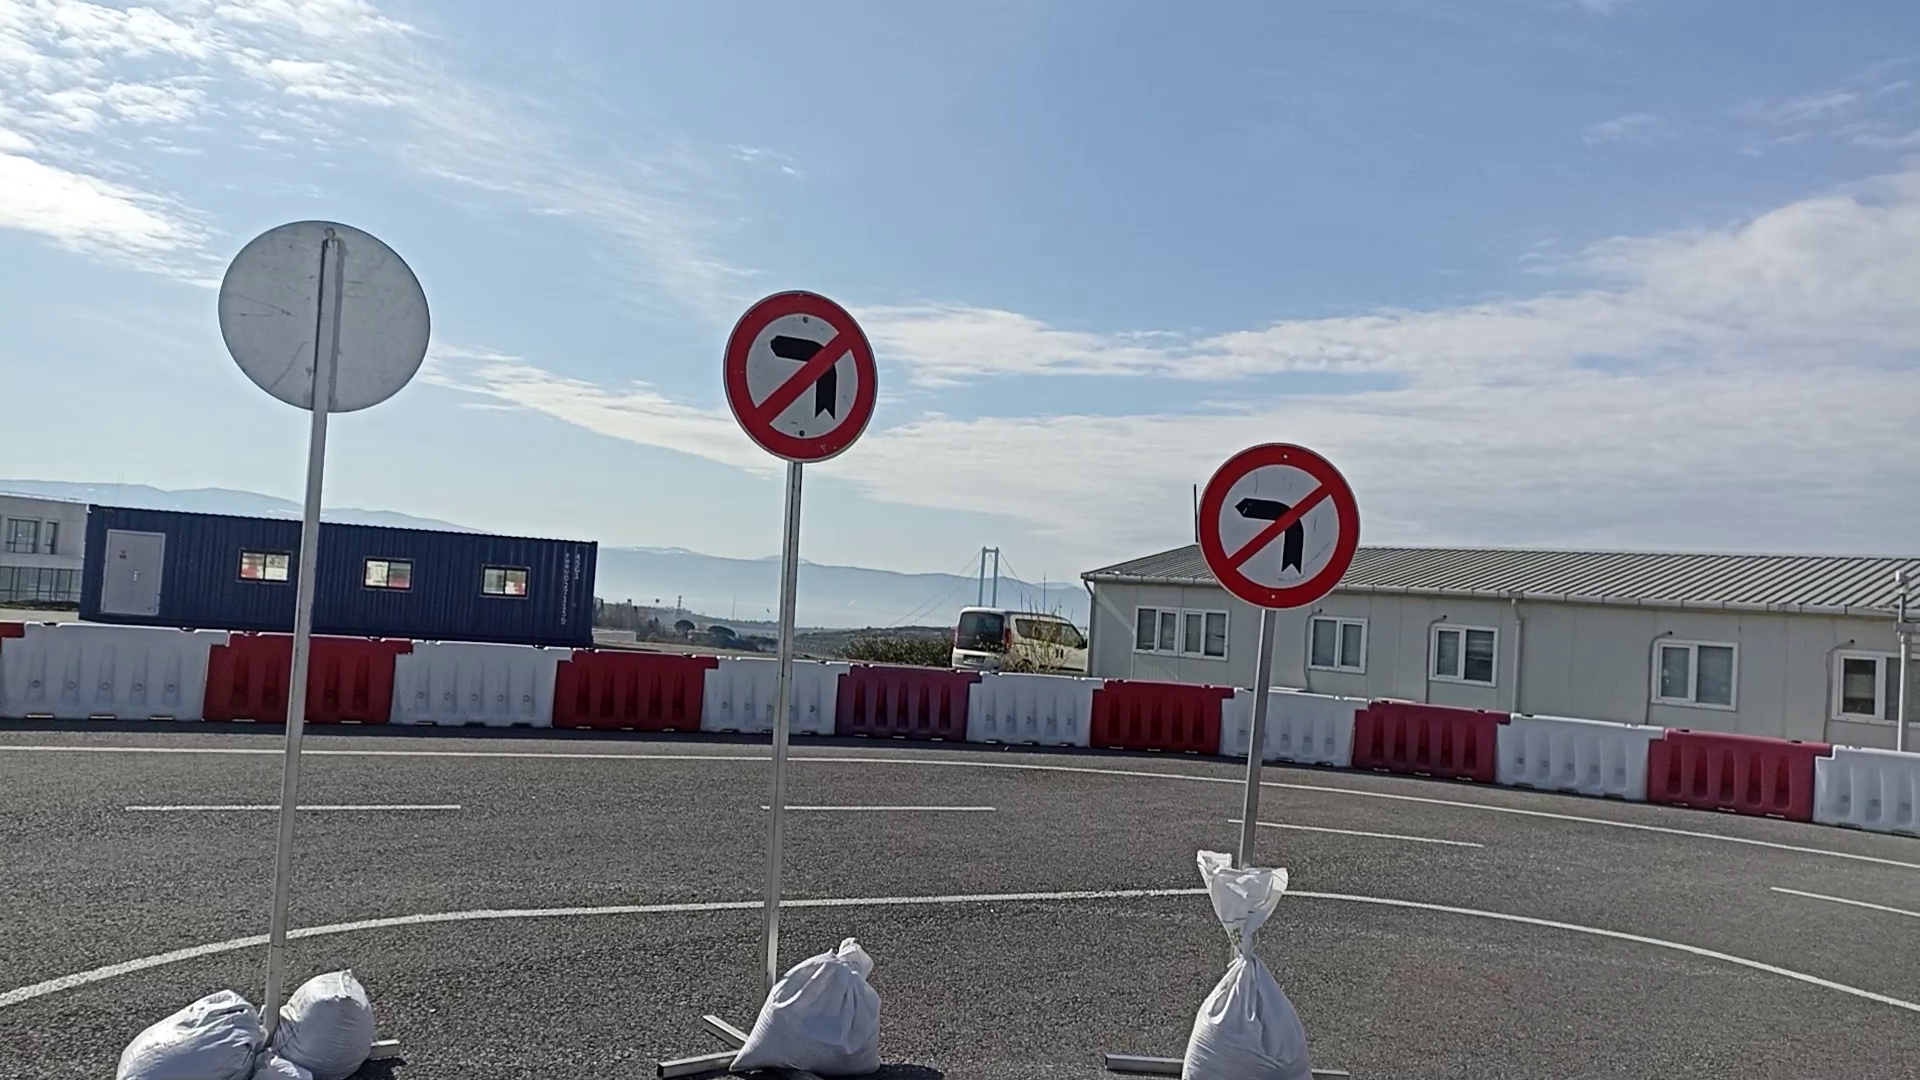noleft: (1197, 443, 1364, 615), (721, 286, 881, 464)
